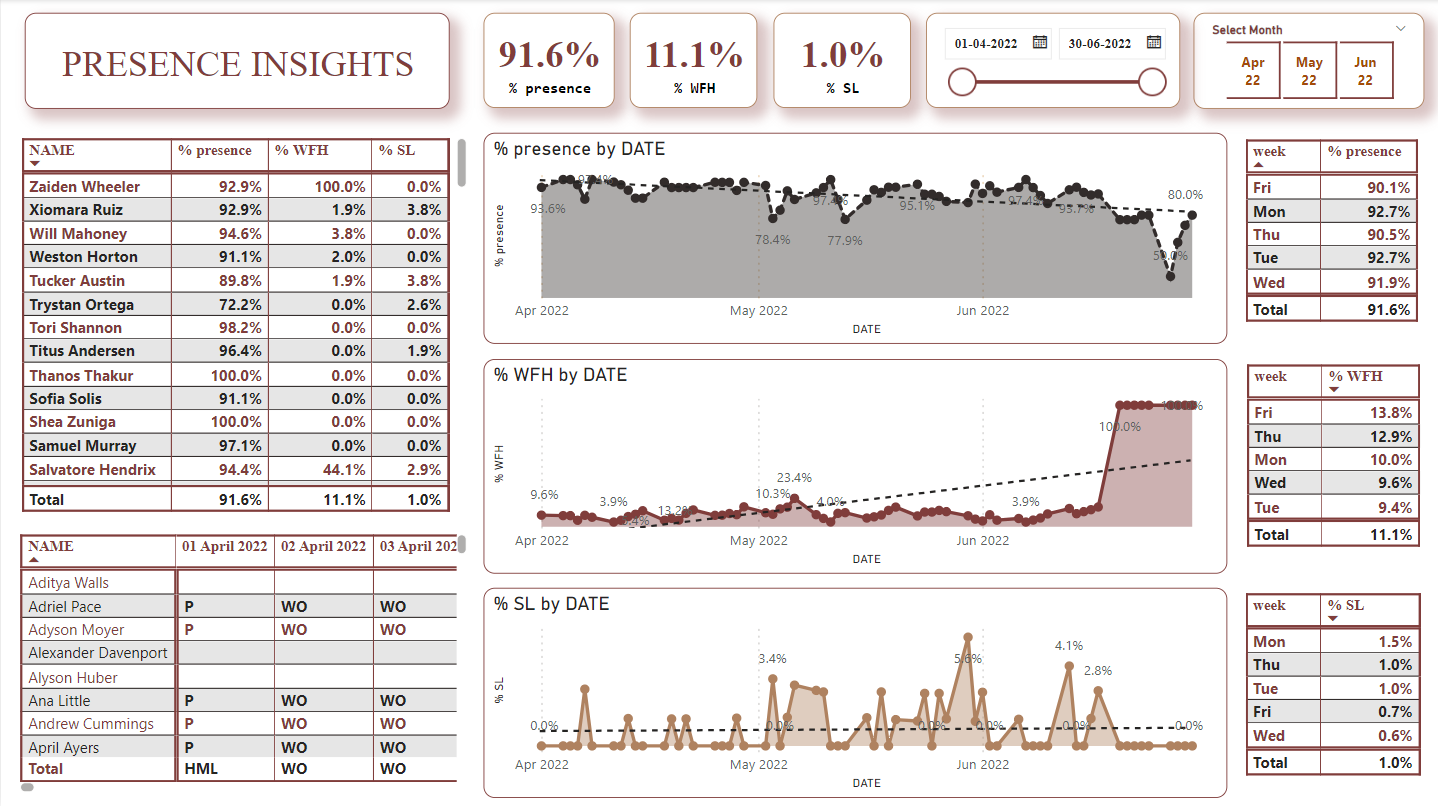

The page's visual inventory and layout, read from the dashboard file:
{"tool":"powerbi","page":{"name":"Page 1","canvas":[1280,720],"ordinal":0},"visuals":[{"type":"card","fields":{"Values":["add measures.% presence"]},"box":[306,9.6,149.6,94.7],"z":0},{"type":"slicer","fields":{"Values":["final data.MonthColumn"]},"box":[1053.9,12.3,207.2,94.7],"z":1000},{"type":"card","fields":{"Values":["add measures.% WFH"]},"box":[465.2,8.2,153.7,97.4],"z":2000},{"type":"card","fields":{"Values":["add measures.% SL"]},"box":[629.8,12.3,148.2,93.3],"z":3000},{"type":"tableEx","fields":{"Values":["final data.NAME","add measures.% presence","add measures.% WFH","add measures.% SL"]},"box":[12.3,119.4,417.2,343.1],"z":4000},{"type":"pivotTable","fields":{"Rows":["final data.NAME"],"Values":["Min(final data.Value)"],"Columns":["final data.DATE"]},"box":[12.3,472,417.2,238.8],"z":5000},{"type":"areaChart","fields":{"Y":["add measures.% presence"],"Category":["final data.DATE"]},"box":[429.5,119.4,672.4,188],"z":6000},{"type":"areaChart","fields":{"Category":["final data.DATE"],"Y":["add measures.% SL"]},"box":[429.5,524.2,672.4,186.6],"z":7000},{"type":"areaChart","fields":{"Category":["final data.DATE"],"Y":["add measures.% WFH"]},"box":[429.5,321.1,672.4,190.7],"z":8000},{"type":"tableEx","fields":{"Values":["final data.week","add measures.% presence"]},"box":[1101.9,120.8,178.4,186.6],"z":9000},{"type":"tableEx","fields":{"Values":["final data.week","add measures.% WFH"]},"box":[1103.3,321.1,177,190.7],"z":10000},{"type":"tableEx","fields":{"Values":["final data.week","add measures.% SL"]},"box":[1101.9,524.2,178.4,186.6],"z":11000},{"type":"slicer","fields":{"Values":["final data.DATE"]},"box":[787.7,12.3,253.9,94.7],"z":12000},{"type":"textbox","box":[12.3,9.6,282.7,97.4],"z":13000}]}

Visuals, with their boxes in screenshot pixels (x1, y1, x2, y2), scaled from the page's 1280x720 canvas onto the 1438x806 screenshot:
card - add measures.% presence: {"left": 344, "top": 11, "right": 512, "bottom": 117}
slicer - final data.MonthColumn: {"left": 1184, "top": 14, "right": 1417, "bottom": 120}
card - add measures.% WFH: {"left": 523, "top": 9, "right": 695, "bottom": 118}
card - add measures.% SL: {"left": 708, "top": 14, "right": 874, "bottom": 118}
tableEx - final data.NAME x add measures.% presence: {"left": 14, "top": 134, "right": 483, "bottom": 518}
pivotTable - final data.NAME x Min(final data.Value): {"left": 14, "top": 528, "right": 483, "bottom": 796}
areaChart - add measures.% presence x final data.DATE: {"left": 483, "top": 134, "right": 1238, "bottom": 344}
areaChart - final data.DATE x add measures.% SL: {"left": 483, "top": 587, "right": 1238, "bottom": 796}
areaChart - final data.DATE x add measures.% WFH: {"left": 483, "top": 359, "right": 1238, "bottom": 573}
tableEx - final data.week x add measures.% presence: {"left": 1238, "top": 135, "right": 1437, "bottom": 344}
tableEx - final data.week x add measures.% WFH: {"left": 1239, "top": 359, "right": 1437, "bottom": 573}
tableEx - final data.week x add measures.% SL: {"left": 1238, "top": 587, "right": 1437, "bottom": 796}
slicer - final data.DATE: {"left": 885, "top": 14, "right": 1170, "bottom": 120}
textbox: {"left": 14, "top": 11, "right": 331, "bottom": 120}
